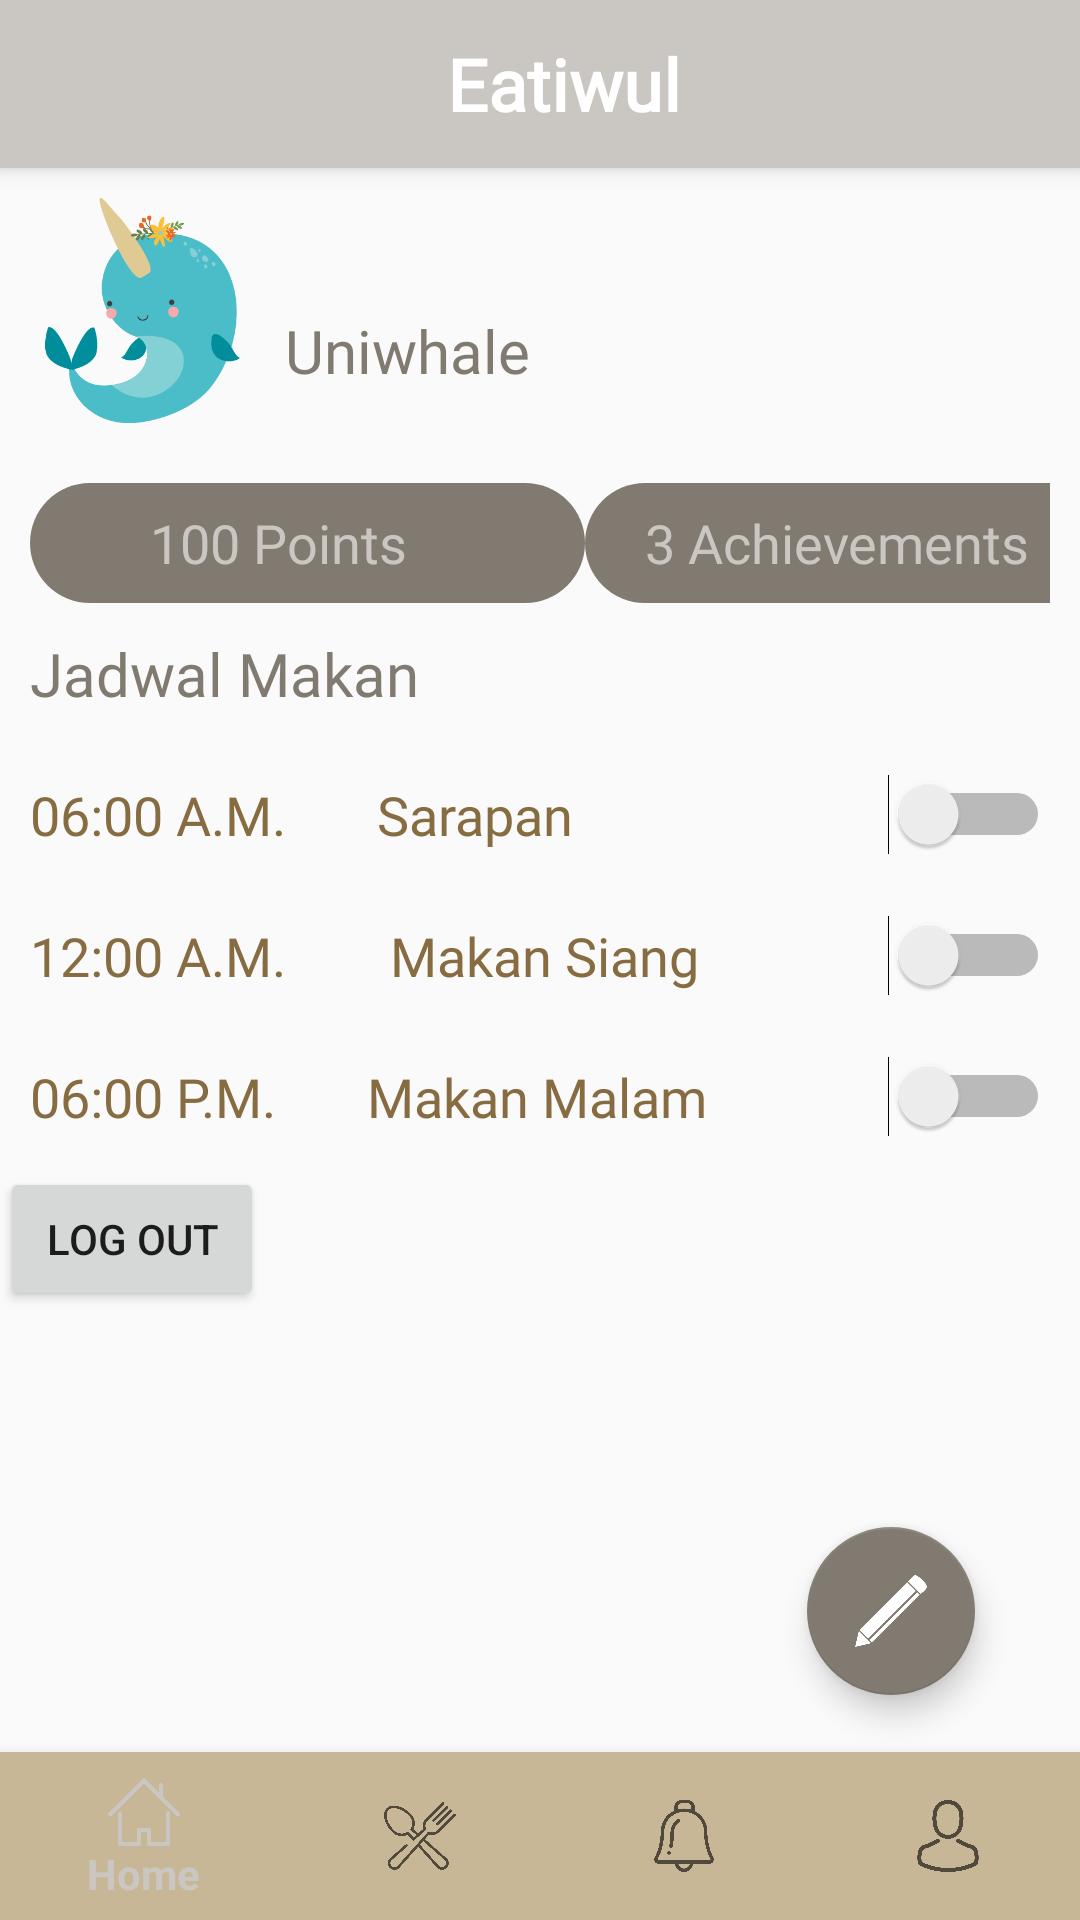

Icons on this 1080px×1920px Android screen, each with the point to tap as [x,y]:
create: [891,1611]
